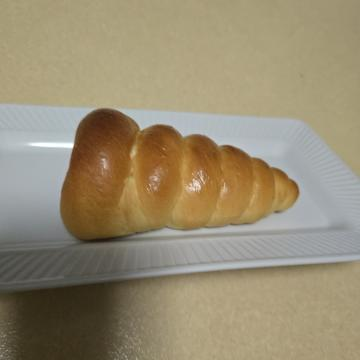cream horn: (79, 50, 279, 310)
